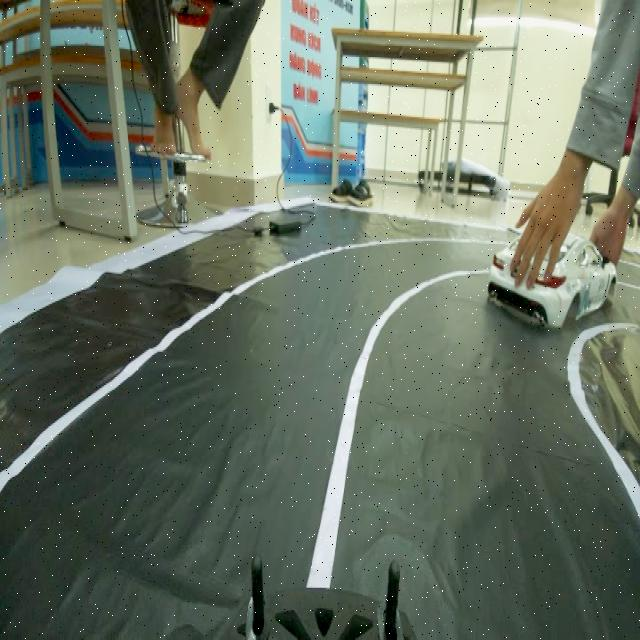car: (484, 216, 608, 329)
